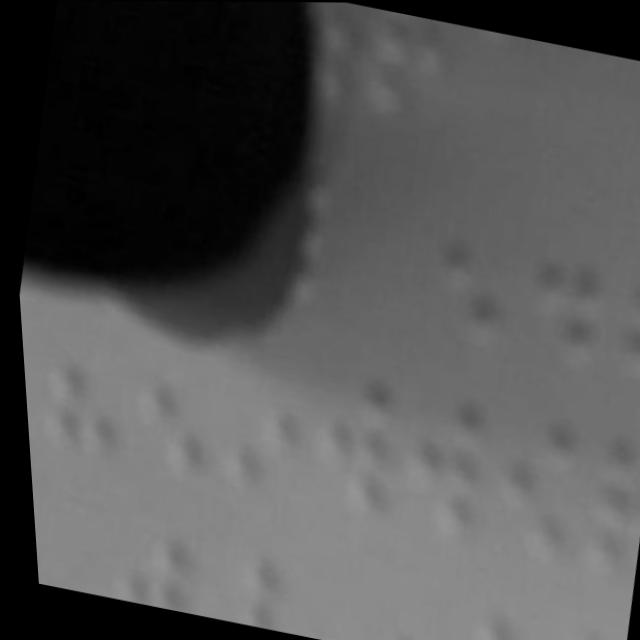braiile: (397, 160, 529, 350), (505, 180, 630, 373), (281, 348, 411, 529), (15, 293, 139, 476), (375, 367, 500, 547), (465, 397, 593, 570), (105, 311, 224, 495), (199, 336, 316, 510), (341, 4, 462, 148), (561, 414, 640, 591), (596, 201, 640, 390)
